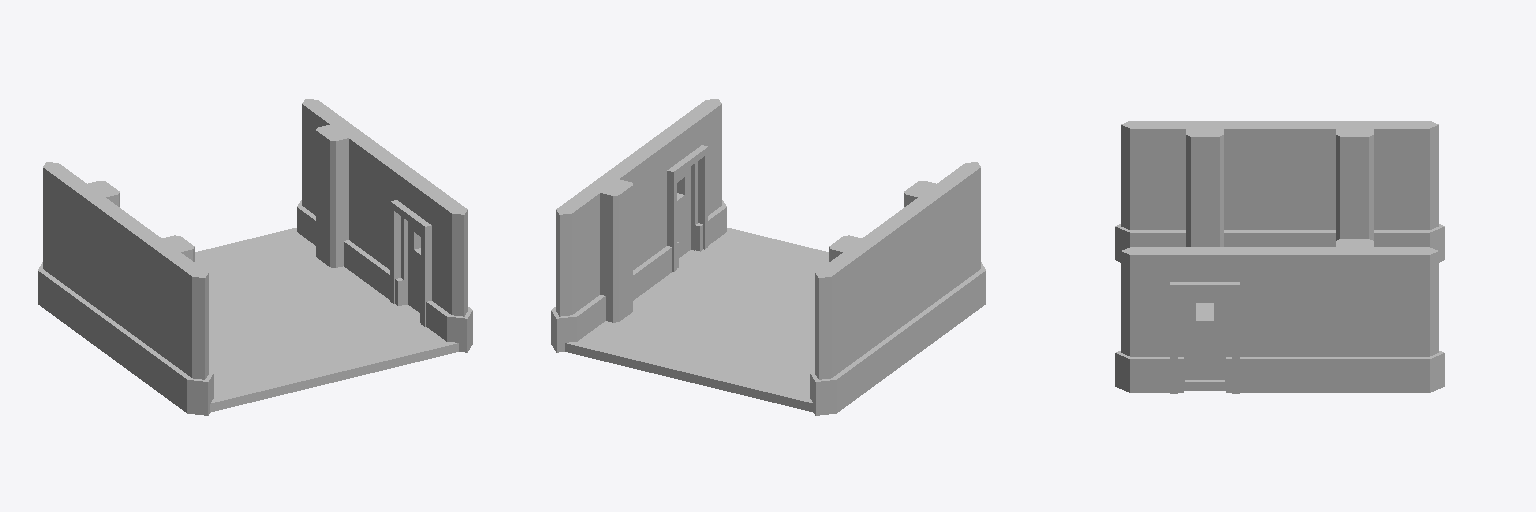
File: hallway_door_02.obj
The picture shows the model from 3 angles: view 1: azimuth 30°, elevation 25°; view 2: azimuth 150°, elevation 25°; view 3: azimuth 270°, elevation 25°; orthographic projection.
Visible parts, largest first — view 1: floor_01_69, wall_02_73, door_02_75, wall_02_74, wall_02_72; view 2: floor_01_69, wall_02_74, wall_02_72, wall_02_73, door_02_75; view 3: wall_02_72, door_02_75, wall_02_73, wall_02_74.
Part boxes in pixels (x1,y1,x2,y2): floor_01_69: (195,228,458,412); wall_02_73: (112,217,213,415); door_02_75: (372,155,472,352); wall_02_74: (38,162,133,357); wall_02_72: (297,99,392,286); floor_01_69: (565,228,828,412); wall_02_74: (810,217,911,415); wall_02_72: (551,154,651,352); wall_02_73: (891,162,985,357); door_02_75: (631,99,726,286); wall_02_72: (1272,239,1444,392); door_02_75: (1115,247,1287,393); wall_02_73: (1115,121,1288,262); wall_02_74: (1272,121,1444,262).
Bounding box in the file's own units: 2.21 × 1 × 2.21.